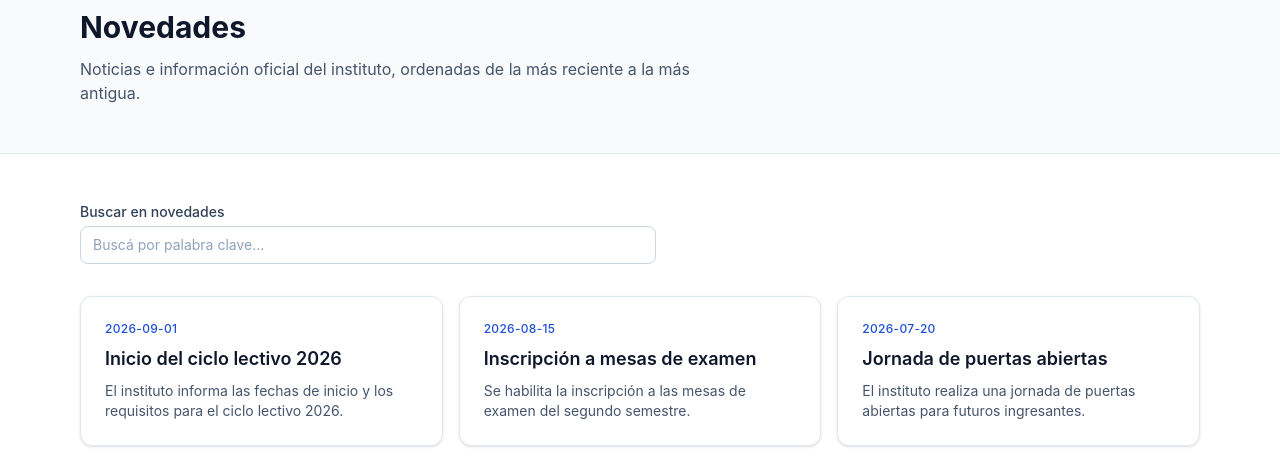
Test: NoticiasPage › filtra las novedades por palabra clave
Type "inscripción" into the search field labelled "Buscar en novedades".
click(368, 245); type("inscripción")  # box x1=80 y1=226 x2=656 y2=264
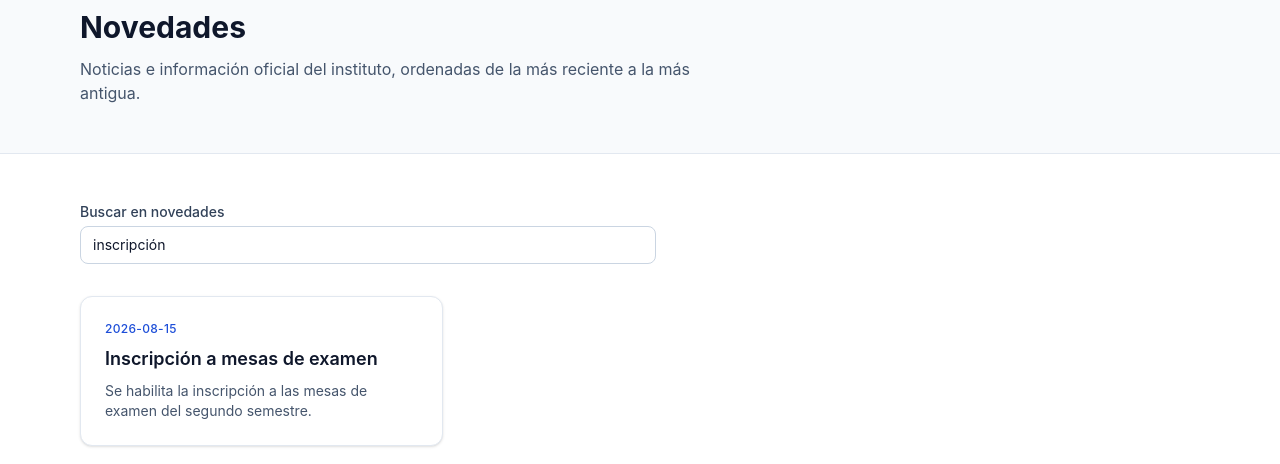
Expected: the heading "Inscripción a mesas de examen" is shown, x1=105 y1=345 x2=418 y2=373
Expected: the link "Inicio del ciclo lectivo 2026" is gone
